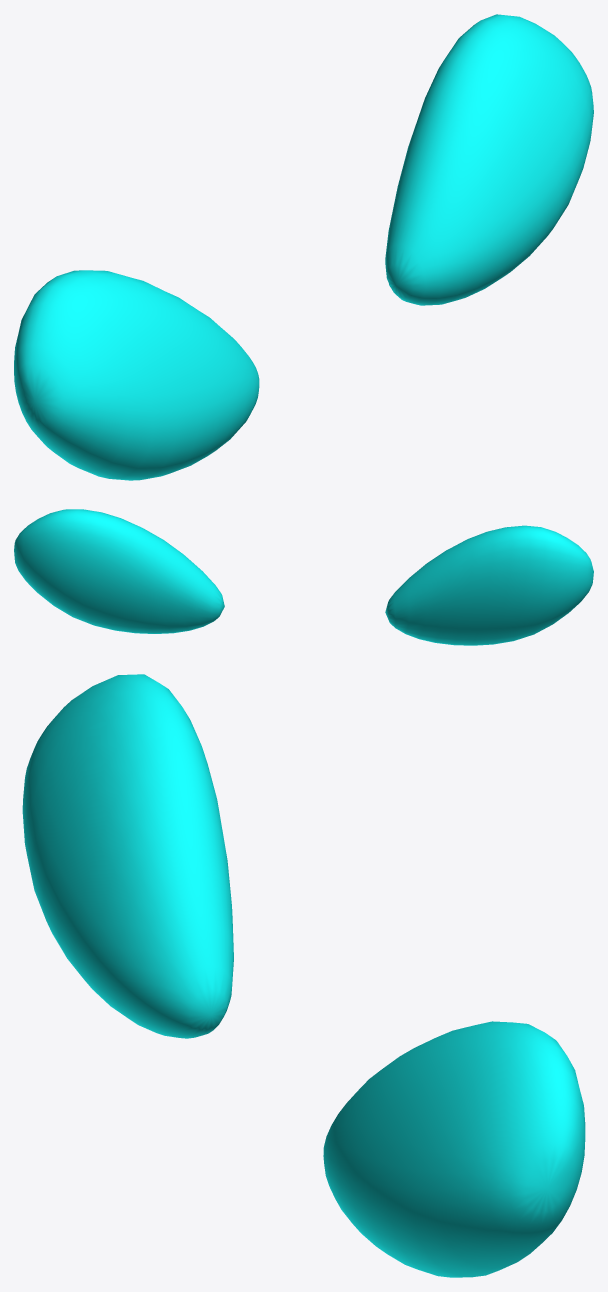
3 views of the same model, one above another, from view 1: azimuth 30°, elevation 25°; view 2: azimuth 150°, elevation 25°; view 3: azimuth 270°, elevation 25° (orthographic). The views are drawn at different scales.
Parts seen in each view (by area): view 1: eyes_brow_001; view 2: eyes_brow_001; view 3: eyes_brow_001.
Part boxes in pixels (x1,y1,x2,y2): eyes_brow_001: (14, 14, 593, 480); eyes_brow_001: (14, 509, 593, 645); eyes_brow_001: (22, 674, 585, 1277).
Bounding box in the file's own units: 35.36 × 18.67 × 9.61.
